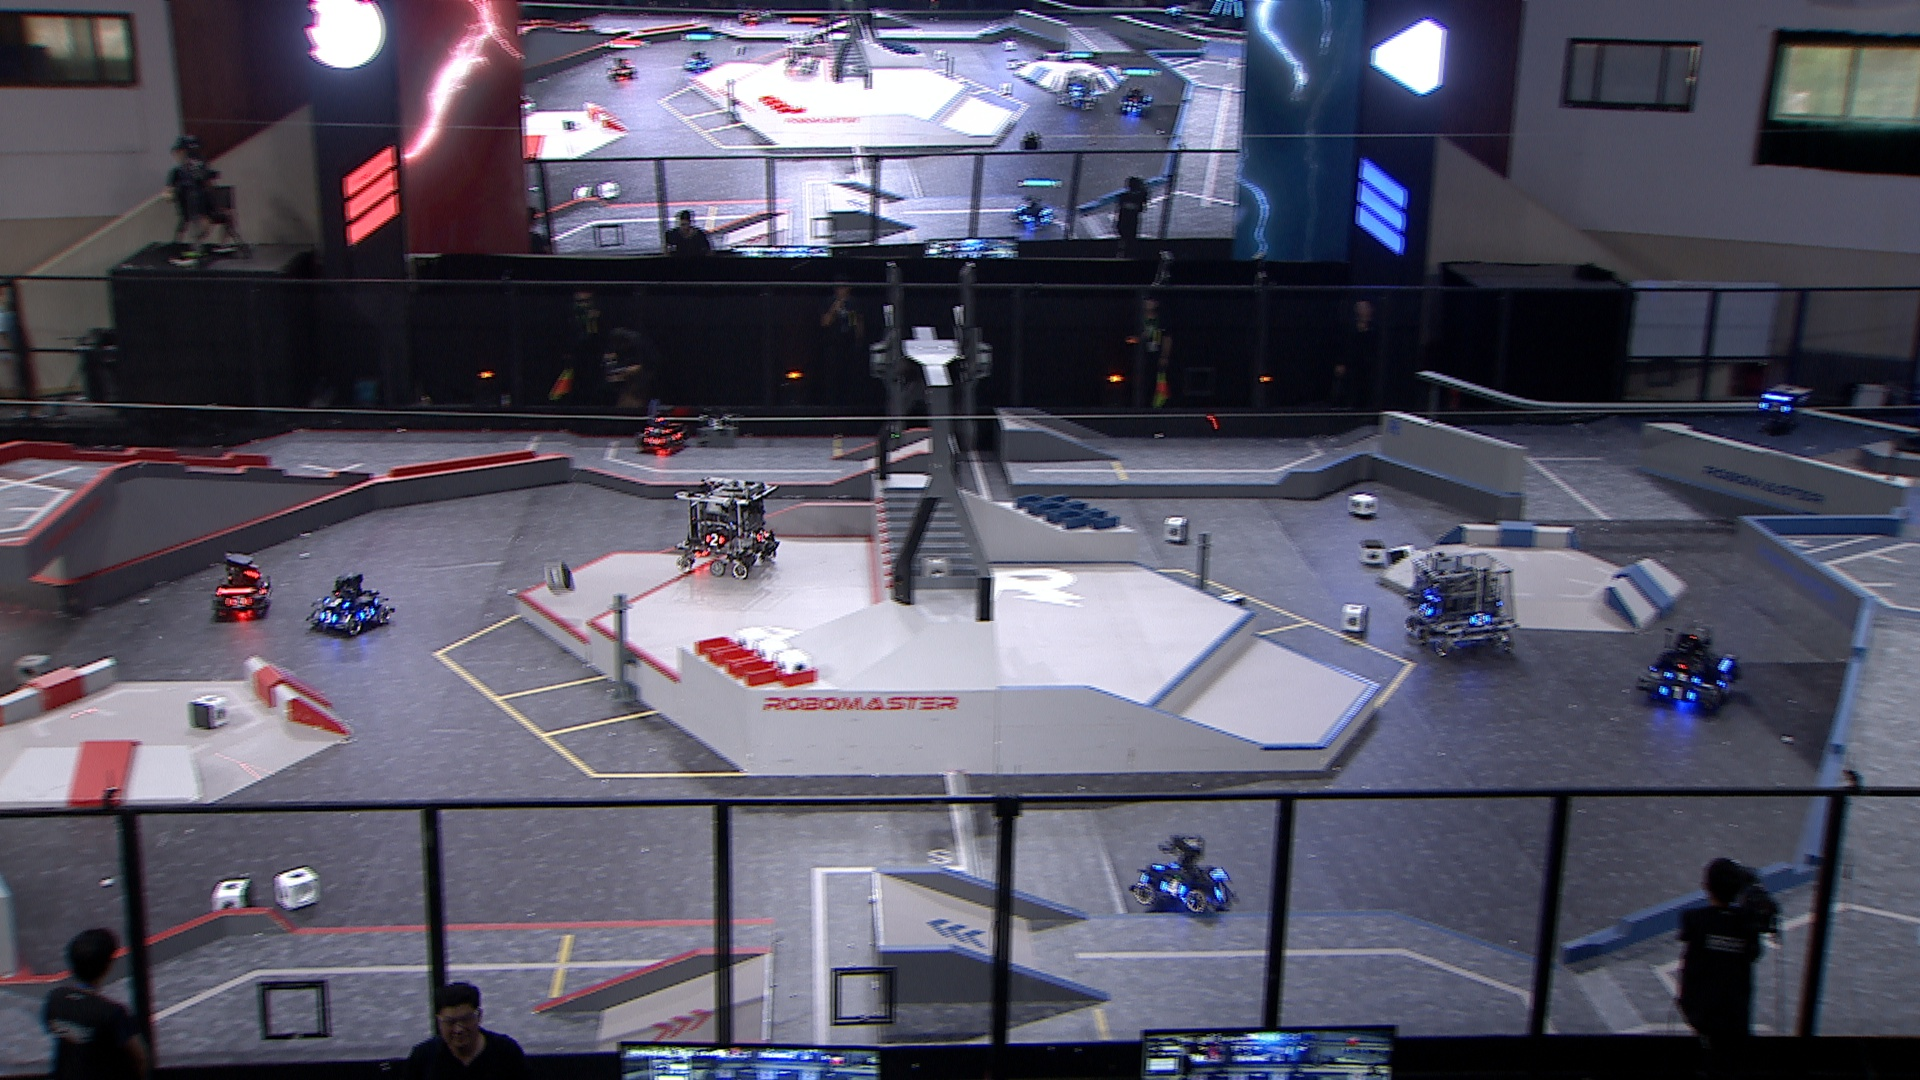armor: (1656, 684, 1697, 703), (1159, 877, 1188, 899), (1662, 670, 1700, 684), (1760, 400, 1793, 415), (225, 595, 252, 611), (1211, 884, 1229, 903), (1465, 613, 1493, 626), (703, 533, 727, 547), (320, 597, 349, 609), (752, 527, 770, 545), (357, 605, 377, 621), (316, 609, 338, 624), (645, 425, 671, 434), (1418, 603, 1433, 617), (644, 436, 665, 447), (670, 431, 686, 440)
car: (1396, 549, 1522, 657), (670, 477, 785, 578), (1636, 621, 1749, 716), (1131, 832, 1240, 916), (301, 568, 392, 638), (210, 553, 272, 618), (636, 405, 694, 455)
ignore: (1054, 69, 1102, 109), (1007, 194, 1058, 229), (1203, 1, 1249, 32), (1116, 88, 1156, 117), (605, 53, 638, 82), (680, 47, 716, 73), (1162, 3, 1188, 22)
watcher: (1754, 384, 1815, 436)
